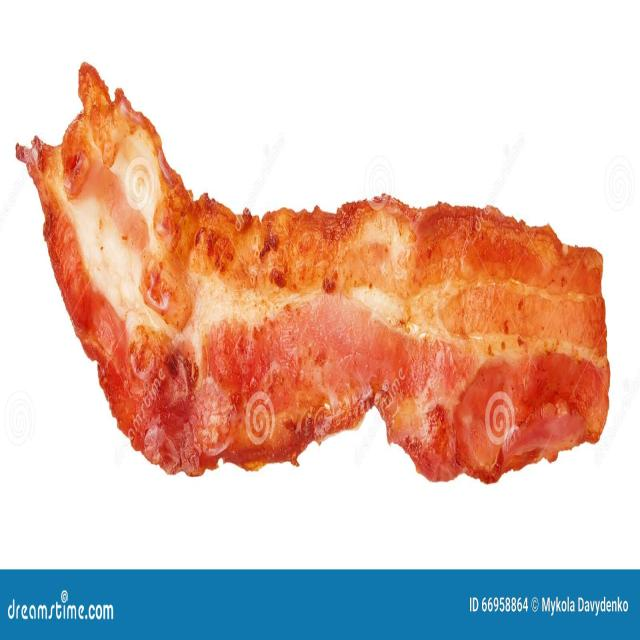Bacon: (16, 64, 610, 483)
